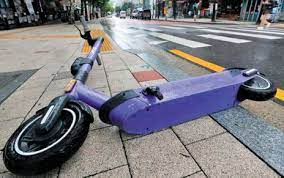fallin_kick: (8, 15, 276, 173)
guide_blocks: (85, 27, 111, 52), (8, 32, 78, 39)
